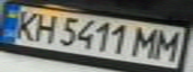1: (109, 21, 133, 55), (90, 20, 112, 53)
4: (75, 17, 96, 51)
5: (54, 15, 81, 47)
H: (27, 11, 60, 44)
K: (6, 8, 42, 42)
M: (130, 25, 163, 60), (151, 28, 184, 62)
